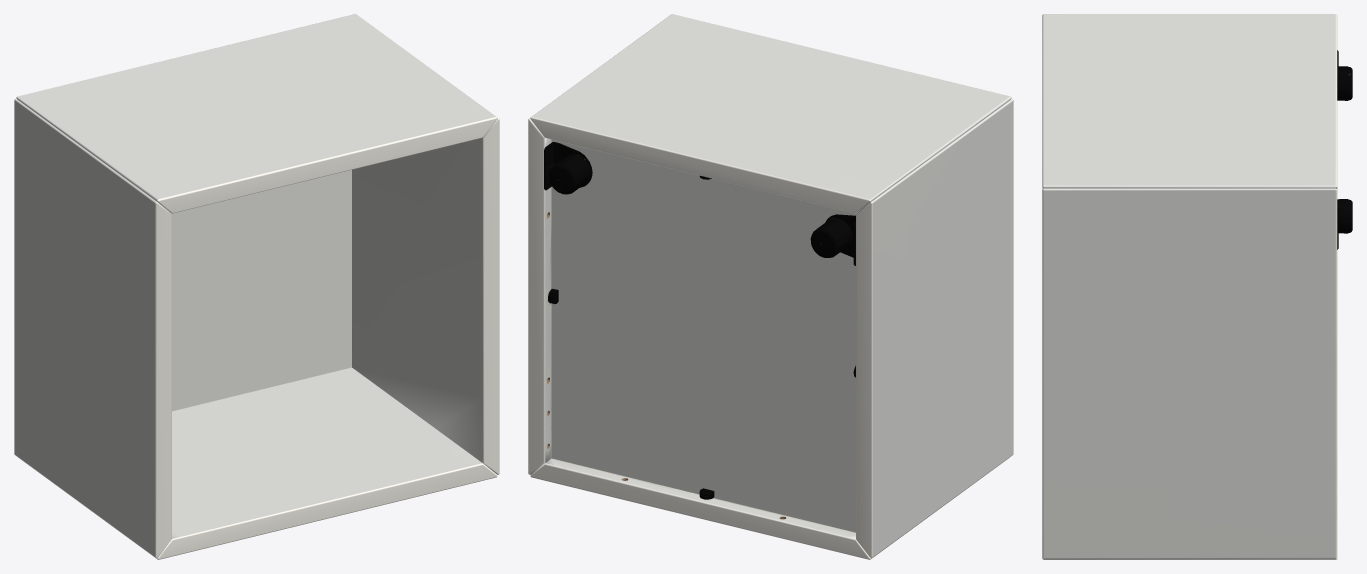
The model's file is 12 - EKET Cabinet - white 35x25x35 cm.glb.
The picture shows the model from 3 angles, left to right: view 1: azimuth 30°, elevation 25°; view 2: azimuth 150°, elevation 25°; view 3: azimuth 270°, elevation 25°; orthographic projection. The views are drawn at different scales.
Parts seen in each view (by area): view 1: model; view 2: model; view 3: model.
Boxes of the visible parts, x1=… form: model: x1=14, y1=14, x2=499, y2=559; model: x1=528, y1=14, x2=1013, y2=559; model: x1=1042, y1=14, x2=1352, y2=559.
Bounding box in the file's own units: 0.35 × 0.35 × 0.2629.
Materials: 1 (1 with a texture image).
